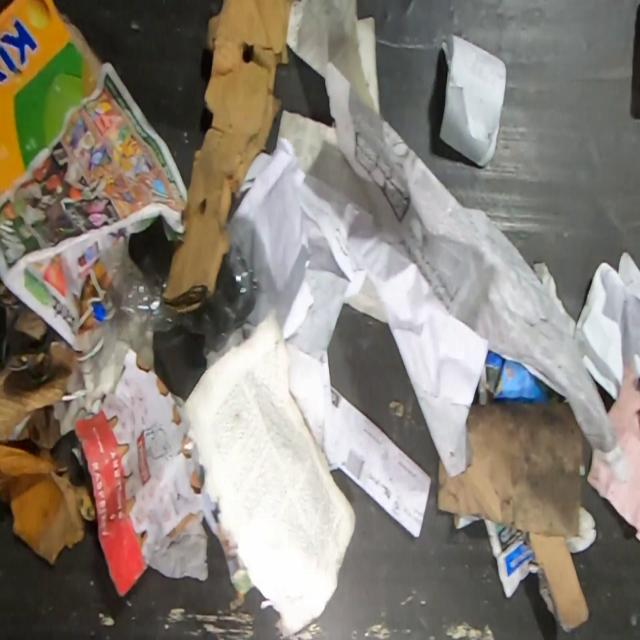cardboard: (163, 0, 291, 313), (438, 403, 591, 630), (72, 343, 207, 597), (0, 278, 87, 449), (0, 442, 96, 563)
rigid_plastic: (92, 244, 258, 342)
